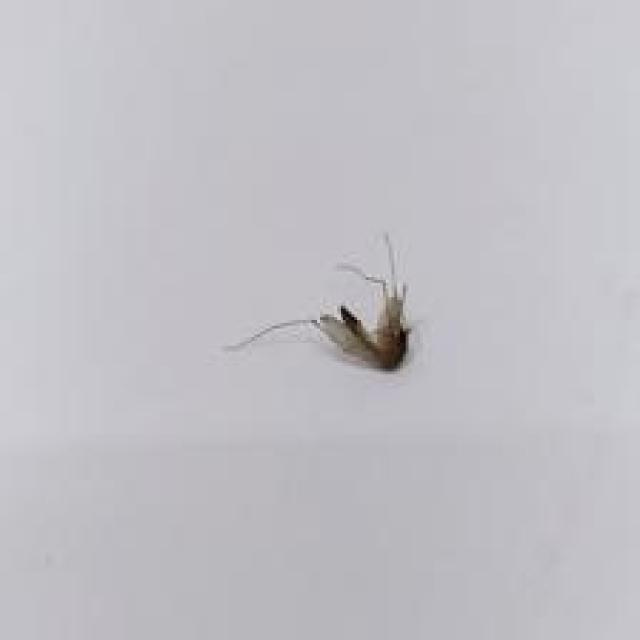Culex: (223, 230, 414, 373)
